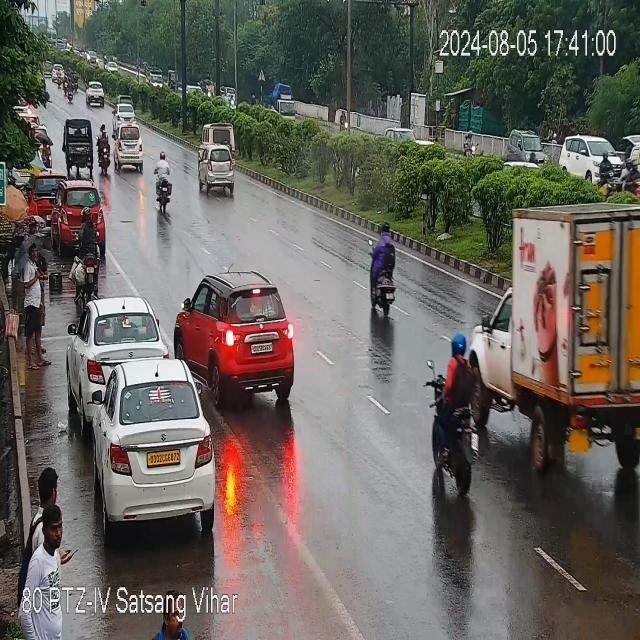2-wheelers: (427, 318, 479, 505), (364, 226, 400, 321), (621, 131, 640, 204), (154, 150, 173, 214), (96, 123, 111, 173), (599, 150, 615, 177)
auto: (62, 119, 96, 164)
car: (475, 195, 638, 434), (91, 358, 217, 523), (177, 266, 299, 403), (71, 294, 164, 402), (53, 180, 108, 256), (557, 125, 621, 178), (29, 168, 66, 217), (198, 143, 235, 189), (112, 124, 144, 171), (510, 127, 544, 160), (200, 120, 234, 152), (111, 98, 138, 122), (86, 80, 109, 106)
pedestrian: (28, 512, 78, 586), (24, 458, 66, 531), (74, 206, 101, 300), (21, 242, 41, 366), (25, 188, 35, 212), (25, 223, 38, 240)
